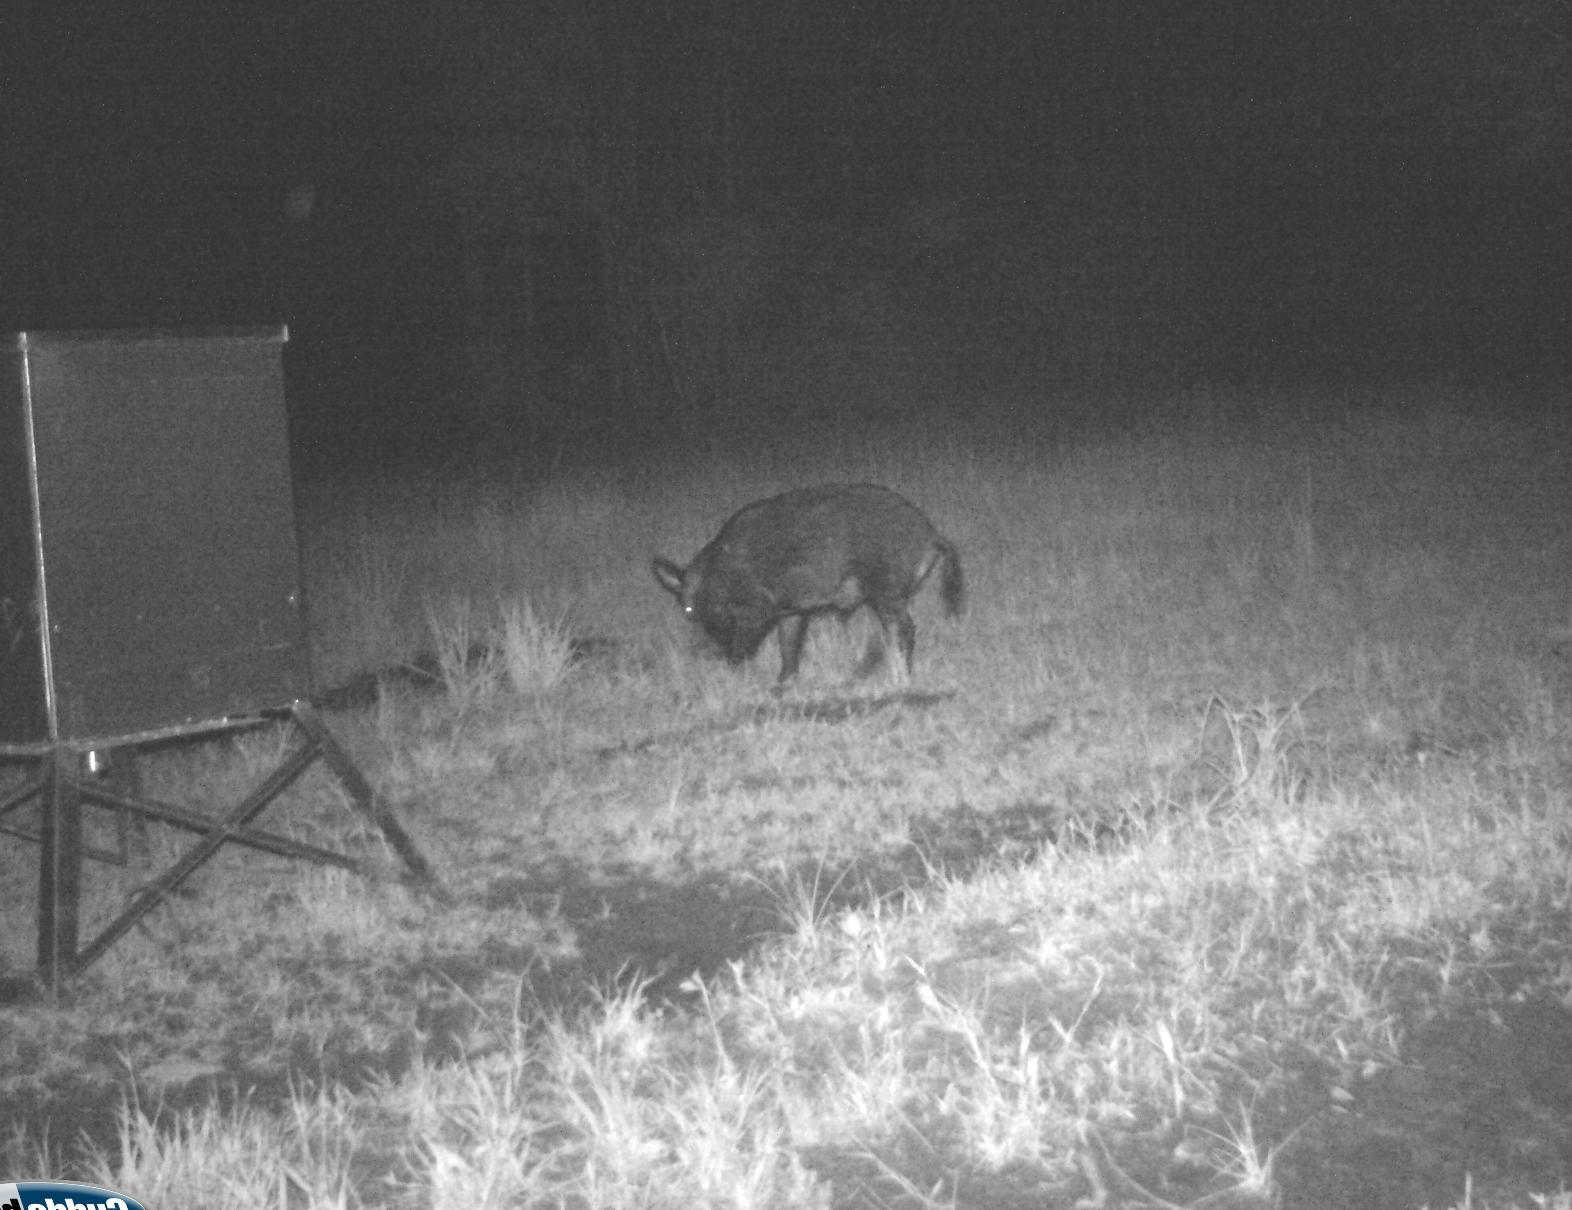Hog: (638, 473, 980, 702)
